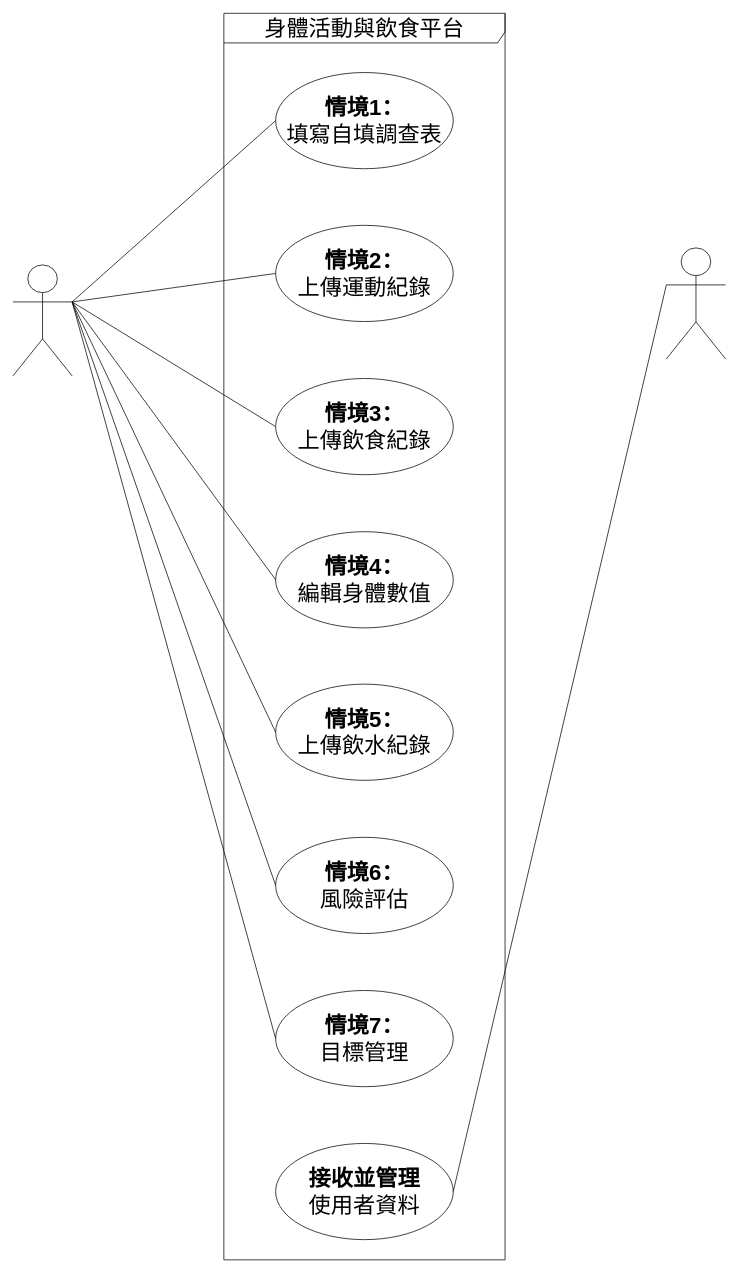
Image size: 739x1273. Some labels were removed from this diagram. Each missing label, with the centre of its shape:
國健署: the point at 696,303
民眾: the point at 42,320
